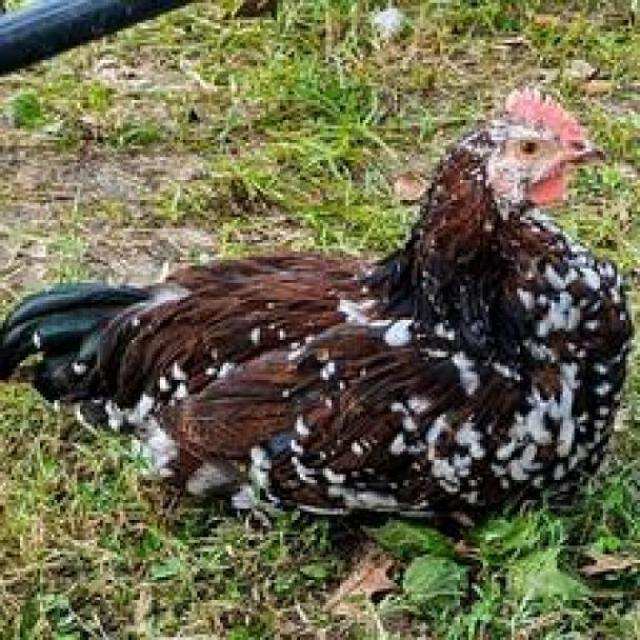Chicken: (7, 90, 630, 531)
